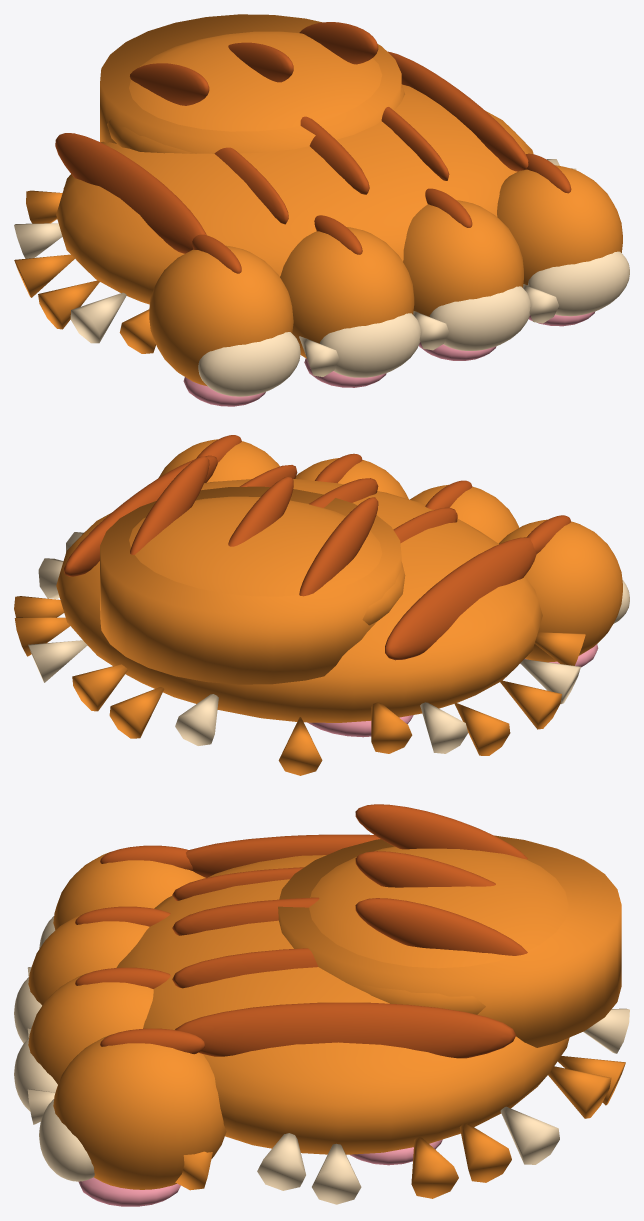
The model's file is cat_paw.glb.
3 renders of one model, top to bottom at view 1: azimuth 30°, elevation 25°; view 2: azimuth 150°, elevation 25°; view 3: azimuth 270°, elevation 25°, orthographic. The views are drawn at different scales.
Visible parts, largest first — view 1: CatPaw; view 2: CatPaw; view 3: CatPaw.
Boxes of the visible parts, x1,y1,x2,y2 form: CatPaw: (14, 14, 629, 406); CatPaw: (14, 435, 629, 775); CatPaw: (14, 804, 629, 1206).
Bounding box in the file's own units: 12.13 × 5.07 × 11.1.
